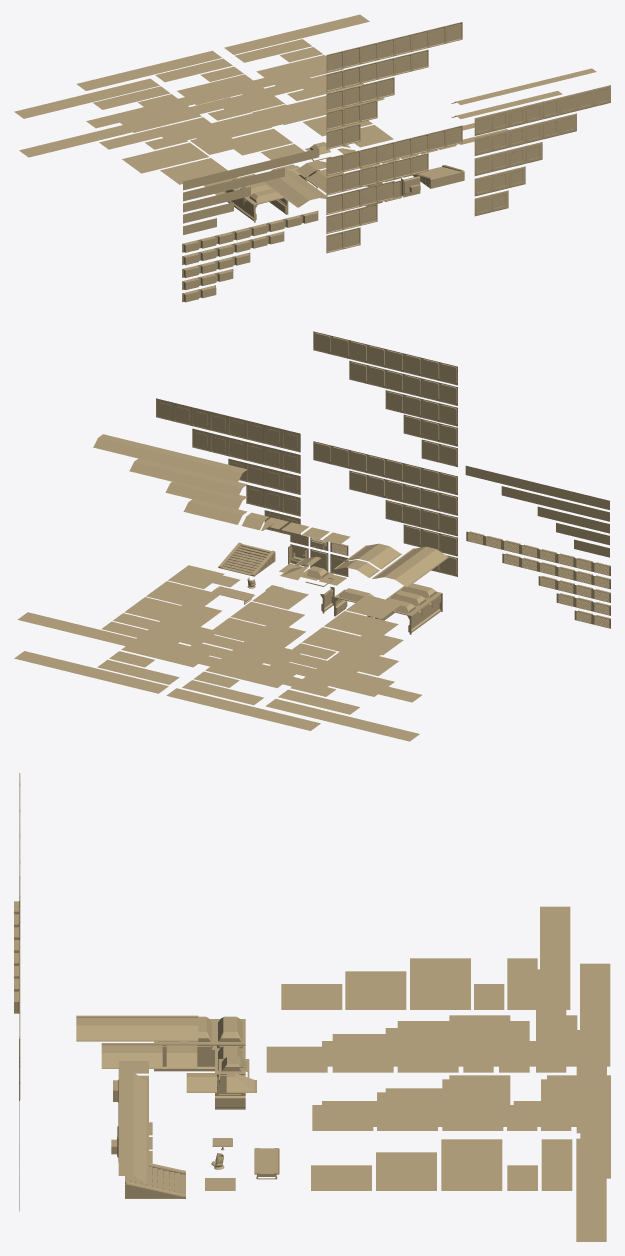
Rendered from Dining_Room.fbx.
3 views of the same model, one above another, from view 1: azimuth 30°, elevation 25°; view 2: azimuth 150°, elevation 25°; view 3: azimuth 270°, elevation 25° (orthographic). The views are drawn at different scales.
Parts seen in each view (by area): view 1: DR_v8_6, DR_v8_11, DR_v7_6, DR_v8_10, DR_v8_5, DR_v7_5, DR_v12_7, DR_v13_23, DR_v13_11, DR_v13_17, DR_v13_20, DR_v17_4 (+40 smaller); view 2: DR_v8_11, DR_v7_6, DR_v8_6, DR_v13_24, DR_v7_5, DR_v8_5, DR_v8_10, DR_v13_25, DR_v6_3, DR_v12_7, DR_v13_23, DR_v5_7 (+43 smaller); view 3: DR_v14_5, DR_v5_4, DR_v13_14, DR_v13_11, DR_v13_8, DR_v13_23, DR_v13_17, DR_v13_24, DR_v13_20, DR_v13_19, DR_v13_13, DR_v13_7 (+28 smaller).
Boxes of the visible parts, x1,y1,x2,y2 form: DR_v8_6: [326, 125, 462, 176]; DR_v8_11: [326, 22, 462, 72]; DR_v7_6: [474, 85, 610, 135]; DR_v8_10: [326, 49, 428, 92]; DR_v8_5: [326, 153, 428, 195]; DR_v7_5: [474, 113, 576, 155]; DR_v12_7: [182, 210, 318, 252]; DR_v13_23: [14, 78, 159, 118]; DR_v13_11: [224, 14, 369, 54]; DR_v13_17: [76, 50, 221, 90]; DR_v13_20: [114, 102, 201, 132]; DR_v17_4: [122, 142, 208, 173]; DR_v8_11: [313, 331, 457, 385]; DR_v7_6: [156, 398, 300, 452]; DR_v8_6: [313, 441, 457, 495]; DR_v13_24: [93, 434, 247, 482]; DR_v7_5: [192, 428, 300, 473]; DR_v8_5: [349, 470, 457, 515]; DR_v8_10: [349, 360, 457, 405]; DR_v13_25: [129, 458, 247, 497]; DR_v6_3: [375, 583, 442, 634]; DR_v12_7: [466, 531, 610, 576]; DR_v13_23: [268, 659, 421, 702]; DR_v5_7: [14, 651, 168, 693]; DR_v14_5: [76, 1015, 198, 1041]; DR_v5_4: [441, 1139, 502, 1190]; DR_v13_14: [449, 1015, 510, 1066]; DR_v13_11: [580, 1075, 610, 1178]; DR_v13_8: [449, 1075, 510, 1126]; DR_v13_23: [540, 906, 570, 1009]; DR_v13_17: [580, 963, 610, 1066]; DR_v13_24: [118, 1072, 148, 1183]; DR_v13_20: [410, 958, 470, 1009]; DR_v13_19: [345, 971, 406, 1009]; DR_v13_13: [385, 1028, 446, 1066]; DR_v13_7: [385, 1088, 446, 1126].
Size of the model in its own units: 78.65 by 35.66 by 58.71.
